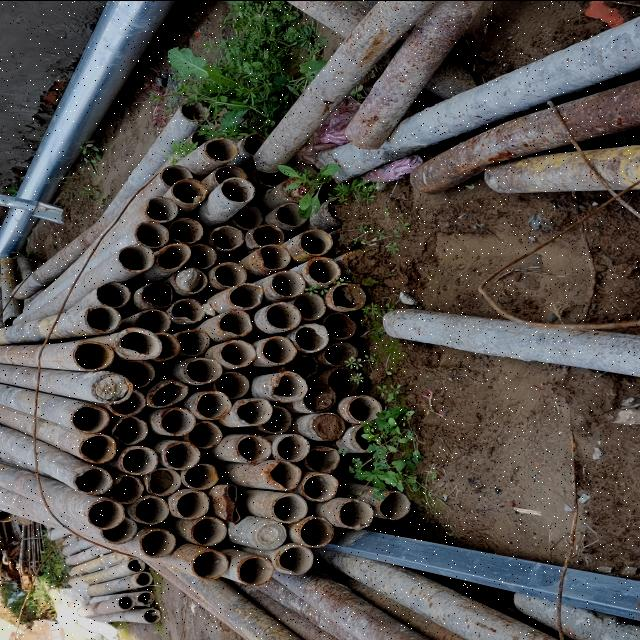pipe: (114, 326, 162, 358), (72, 339, 114, 372), (90, 371, 133, 403), (247, 518, 290, 550), (70, 402, 110, 434), (195, 387, 233, 420), (191, 548, 229, 580), (116, 358, 156, 388), (238, 553, 274, 586), (219, 479, 246, 523), (339, 248, 378, 278), (108, 472, 144, 504), (80, 432, 116, 464), (270, 370, 308, 400), (270, 493, 308, 523), (235, 396, 273, 426), (139, 528, 177, 558), (132, 494, 170, 524), (120, 444, 158, 474), (75, 465, 113, 495), (106, 385, 144, 415), (84, 304, 122, 334), (299, 514, 334, 546), (110, 416, 150, 444), (150, 378, 190, 406), (190, 515, 227, 545), (302, 472, 339, 502), (234, 434, 271, 464), (165, 440, 202, 470), (88, 498, 125, 528), (326, 365, 362, 395), (338, 500, 374, 530), (276, 544, 312, 574), (176, 489, 212, 519), (309, 412, 346, 441), (328, 282, 366, 310), (99, 516, 137, 544), (215, 368, 250, 398), (181, 357, 223, 382), (158, 407, 194, 436), (218, 338, 255, 366), (118, 244, 156, 271), (306, 442, 340, 472), (276, 432, 310, 462), (265, 301, 300, 330), (134, 220, 170, 248), (305, 256, 341, 284), (322, 311, 358, 339), (260, 335, 296, 363), (188, 420, 224, 448), (349, 421, 380, 453), (260, 402, 292, 433), (377, 490, 410, 520), (253, 162, 291, 188), (294, 323, 328, 352), (265, 459, 299, 488), (171, 177, 207, 204), (174, 328, 210, 355), (184, 462, 220, 489), (134, 307, 171, 333), (294, 290, 326, 320), (152, 330, 182, 362), (348, 394, 382, 422), (147, 468, 181, 496), (168, 216, 204, 242), (298, 228, 334, 254), (270, 270, 306, 296), (138, 281, 174, 307), (95, 280, 131, 306), (220, 307, 252, 336), (302, 384, 336, 411), (277, 176, 315, 200), (210, 224, 245, 250), (322, 341, 358, 366), (158, 242, 190, 270), (173, 296, 205, 324), (221, 176, 255, 202), (144, 195, 178, 221), (174, 267, 208, 293), (214, 261, 248, 287), (228, 282, 262, 308), (275, 201, 309, 227), (259, 242, 291, 268), (186, 242, 218, 268), (203, 136, 237, 160), (160, 164, 194, 188), (284, 354, 318, 378), (322, 195, 350, 224), (215, 164, 248, 188), (328, 226, 356, 254), (252, 223, 286, 246), (233, 202, 263, 228), (240, 131, 266, 157), (181, 100, 211, 122), (141, 606, 161, 624), (136, 589, 155, 606), (134, 570, 154, 586), (126, 557, 146, 572), (190, 128, 204, 146), (117, 595, 135, 609)
